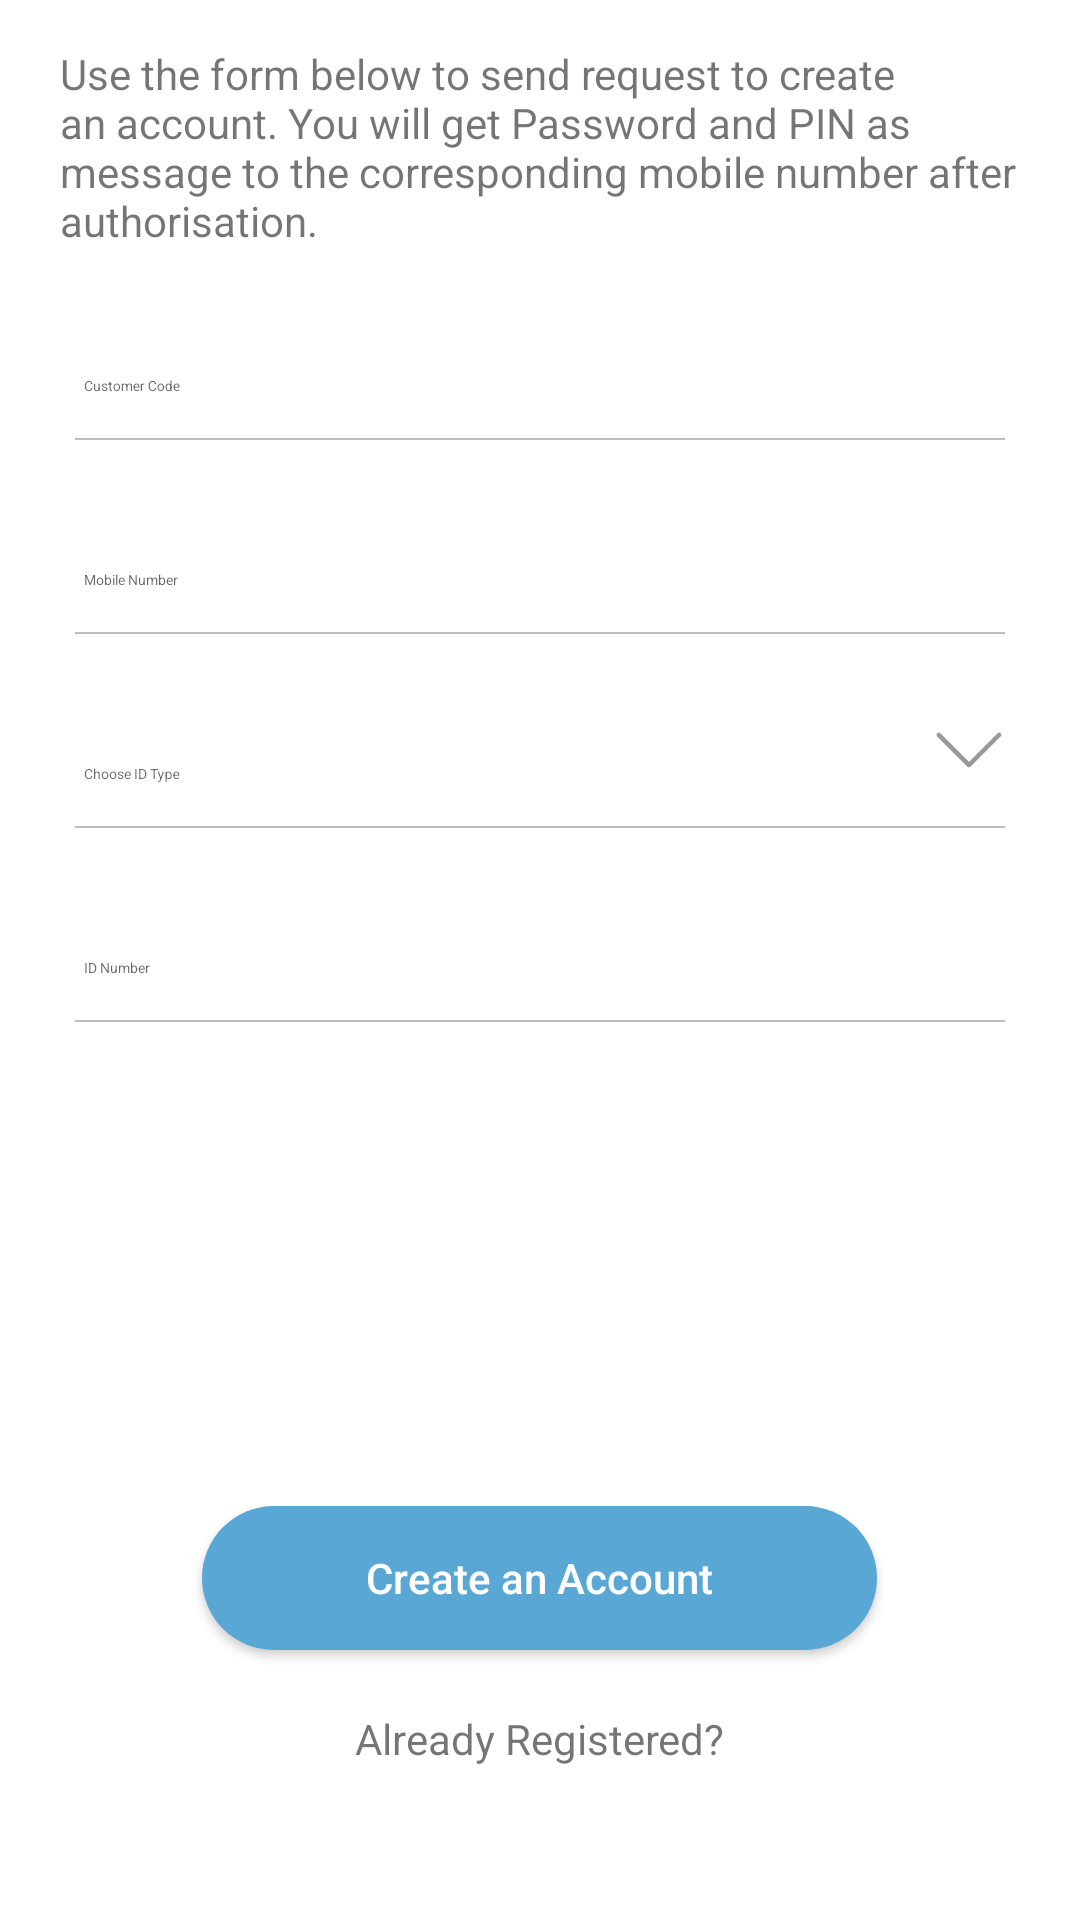

Screen size 1080 x 1920. Icon name, then its box in pixels as (x1, y1, x2, y2):
down arrow: (936, 732, 1002, 768)
